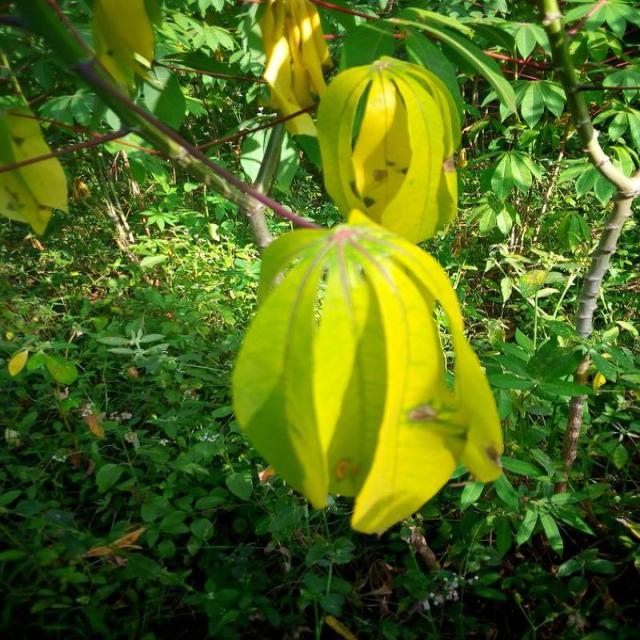cassava leaf: (230, 210, 506, 537), (316, 54, 462, 244), (1, 97, 70, 237)
